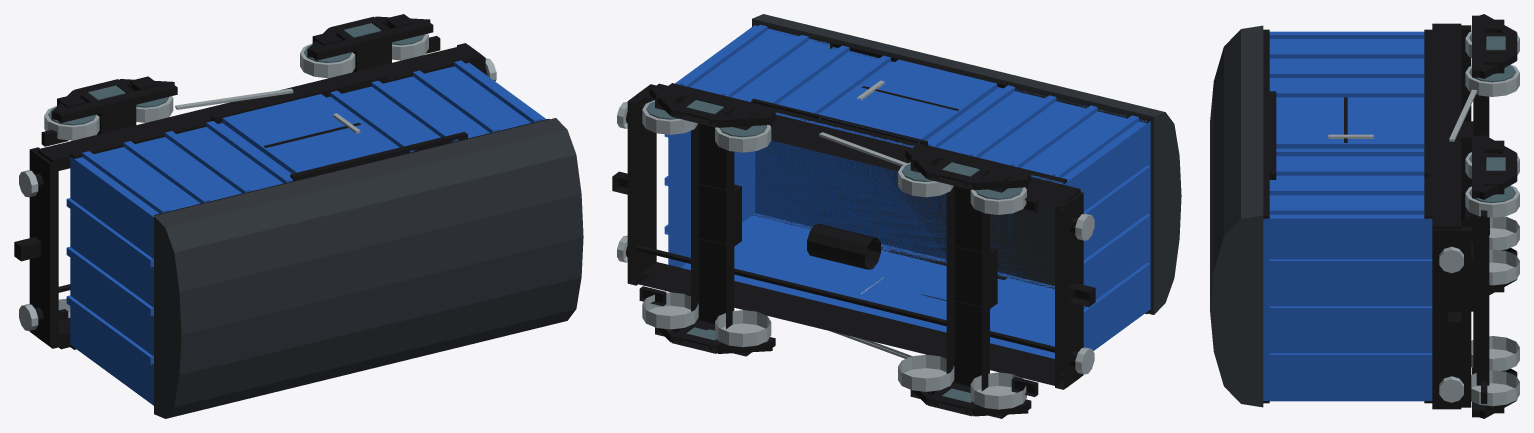
3 views of the same model, side by side, from view 1: azimuth 30°, elevation 25°; view 2: azimuth 150°, elevation 25°; view 3: azimuth 270°, elevation 25° (orthographic). The views are drawn at different scales.
Parts seen in each view (by area): view 1: default_roof, default_body, default_side1_-0.85_2.10, default_bogie-1, default_bogie1, default_solebar1, default_headstock-1, default_buffers-1, default_side1_-3.40_2.00, default_side1_-1.00_4.40, default_side1_-1.00_2.05, default_endrib-1-0.8 (+12 smaller); view 2: default_body, default_roof, default_bogie1, default_bogie-1, default_solebar-1, default_side1_-0.85_2.10, default_side-1_-0.85_2.10, default_headstock1, default_headstock-1, default_solebar1, default_brake_cylinder, default_brake_pipe (+20 smaller); view 3: default_body, default_roof, default_bogie1, default_side1_-0.85_2.10, default_bogie-1, default_solebar1, default_headstock1, default_endrib1-0.8, default_endrib10.0, default_endrib10.8, default_buffers1, default_side1_2.43_2.12 (+15 smaller).
Part boxes in pixels (left/top/right/bottom): default_roof: left=154, top=118, right=583, bottom=418; default_body: left=70, top=62, right=546, bottom=405; default_side1_-0.85_2.10: left=222, top=94, right=395, bottom=173; default_bogie-1: left=44, top=76, right=177, bottom=349; default_bogie1: left=300, top=14, right=433, bottom=78; default_solebar1: left=37, top=44, right=482, bottom=171; default_headstock-1: left=29, top=147, right=58, bottom=346; default_buffers-1: left=14, top=170, right=43, bottom=330; default_side1_-3.40_2.00: left=70, top=57, right=469, bottom=158; default_side1_-1.00_4.40: left=290, top=132, right=467, bottom=180; default_side1_-1.00_2.05: left=211, top=74, right=387, bottom=123; default_endrib-1-0.8: left=66, top=295, right=153, bottom=364; default_body: left=668, top=25, right=1150, bottom=358; default_roof: left=752, top=14, right=1181, bottom=314; default_bogie1: left=642, top=83, right=775, bottom=356; default_bogie-1: left=898, top=146, right=1031, bottom=418; default_solebar-1: left=635, top=262, right=1076, bottom=387; default_side1_-0.85_2.10: left=819, top=59, right=997, bottom=143; default_side-1_-0.85_2.10: left=829, top=253, right=946, bottom=327; default_headstock1: left=627, top=95, right=656, bottom=285; default_headstock-1: left=1055, top=192, right=1083, bottom=389; default_solebar1: left=635, top=84, right=1080, bottom=211; default_brake_cylinder: left=807, top=224, right=880, bottom=269; default_brake_pipe: left=636, top=245, right=1054, bottom=352; default_body: left=1263, top=39, right=1432, bottom=400; default_roof: left=1210, top=25, right=1263, bottom=407; default_bogie1: left=1465, top=135, right=1519, bottom=418; default_side1_-0.85_2.10: left=1276, top=97, right=1424, bottom=148; default_bogie-1: left=1465, top=14, right=1519, bottom=294; default_solebar1: left=1432, top=23, right=1461, bottom=229; default_headstock1: left=1432, top=227, right=1471, bottom=407; default_endrib1-0.8: left=1269, top=353, right=1432, bottom=361; default_endrib10.0: left=1269, top=306, right=1432, bottom=314; default_endrib10.8: left=1269, top=259, right=1432, bottom=267; default_buffers1: left=1439, top=246, right=1463, bottom=402; default_side1_2.43_2.12: left=1269, top=187, right=1424, bottom=195.
Size of the model in its own units: 8.2 by 3.9 by 4.77.
